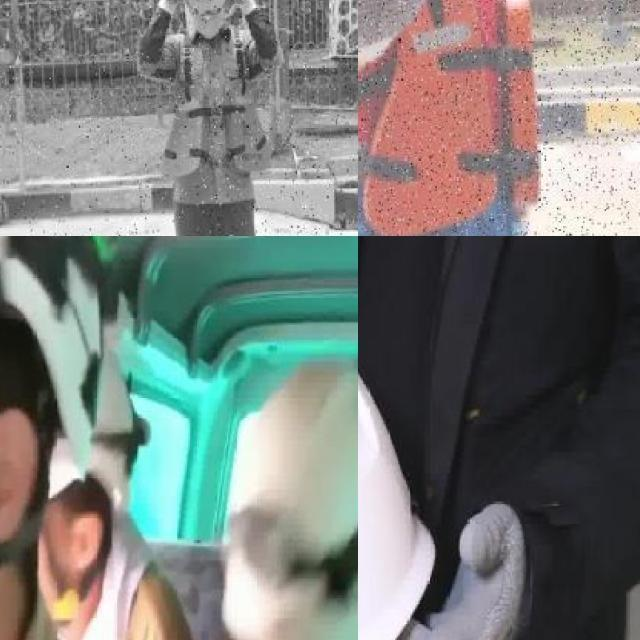apron: (372, 500, 527, 640), (155, 0, 189, 21), (224, 0, 258, 20)
